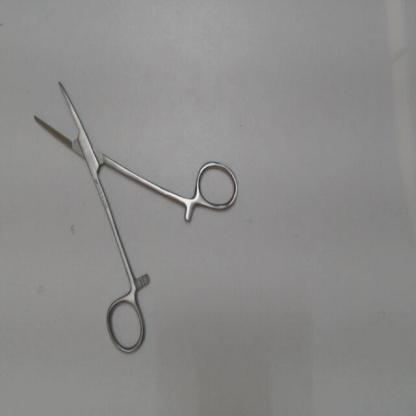Mayo Needle Holder: (26, 70, 245, 362)
